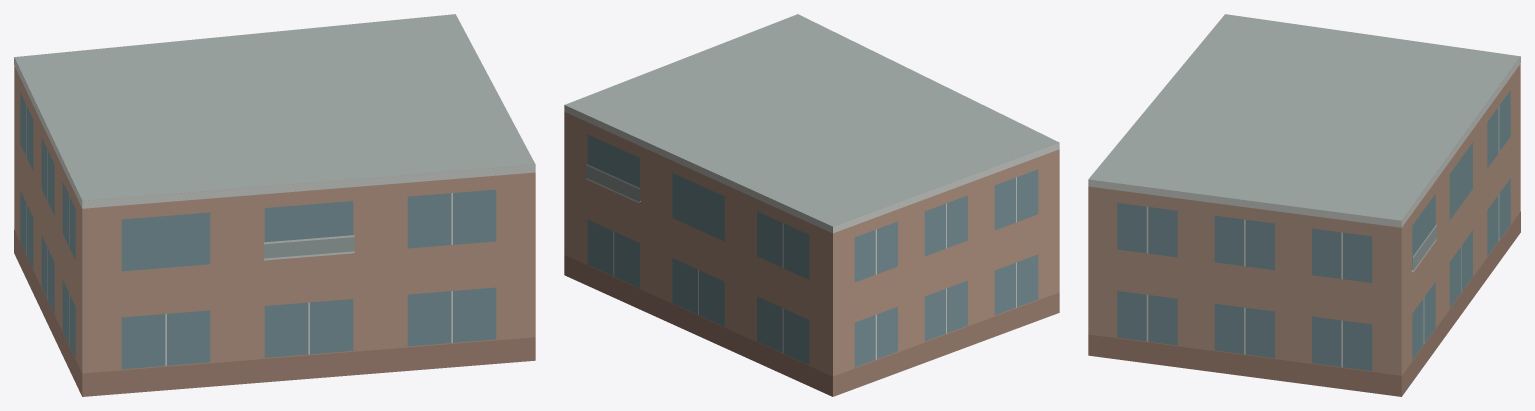
File: survey-upis-32769468.glb
3 views of the same model, side by side, from view 1: azimuth 30°, elevation 25°; view 2: azimuth 150°, elevation 25°; view 3: azimuth 270°, elevation 25° (orthographic). The views are drawn at different scales.
Parts seen in each view (by area): view 1: survey-upis-32769468.tmp; view 2: survey-upis-32769468.tmp; view 3: survey-upis-32769468.tmp.
Boxes of the visible parts, <box> form: survey-upis-32769468.tmp: <box>14,14,535,396</box>; survey-upis-32769468.tmp: <box>564,14,1059,396</box>; survey-upis-32769468.tmp: <box>1088,14,1520,396</box>.
Size of the model in its own units: 15.37 by 6.1 by 13.59.
